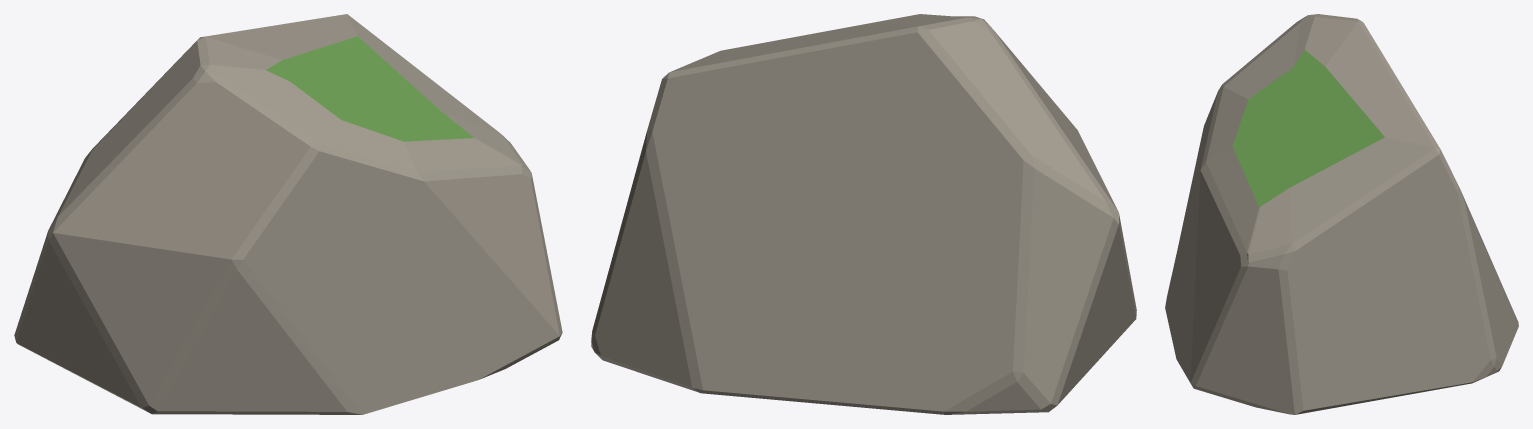
File: sm_env_forest_rock.glb
3 renders of one model, left to right at view 1: azimuth 30°, elevation 25°; view 2: azimuth 150°, elevation 25°; view 3: azimuth 270°, elevation 25°, orthographic. The views are drawn at different scales.
Parts seen in each view (by area): view 1: ForestRock; view 2: ForestRock; view 3: ForestRock.
Boxes of the visible parts, x1,y1,x2,y2 form: ForestRock: [14, 14, 562, 414]; ForestRock: [591, 14, 1136, 414]; ForestRock: [1165, 14, 1518, 414].
Bounding box in the file's own units: 0.8 × 0.5 × 0.6.
